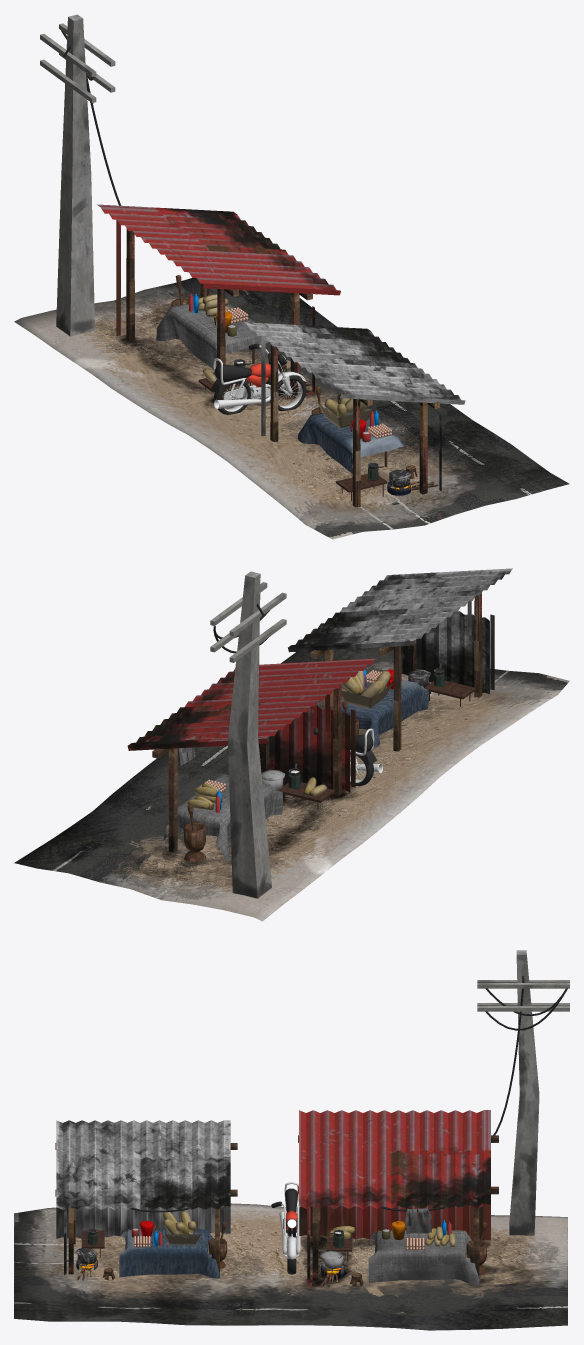
Rendered from asset.glb.
3 renders of one model, top to bottom at view 1: azimuth 30°, elevation 25°; view 2: azimuth 150°, elevation 25°; view 3: azimuth 270°, elevation 25°, orthographic. The views are drawn at different scales.
Parts seen in each view (by area): view 1: Cube.021, Cube.015, Cube.047, Cube.112, BezierCurve.002, Cube.019, Cube.110, Cube.013, Cube.116; view 2: Cube.021, Cube.015, Cube.112, Cube.047, Cube.013, Cube.110, Cube.019, Cube.116, BezierCurve.002, Cube.003, Cube.120, Cube.104 (+2 smaller); view 3: Cube.021, Cube.015, Cube.112, Cube.047, Cube.019, Cube.116, BezierCurve.002, Cube.013, Cube.110, Cube.045, Cube.120, Cube.003.
Boxes of the visible parts, x1,y1,x2,y2 form: Cube.021: (14,278,569,539); Cube.015: (97,204,340,399); Cube.047: (40,14,115,336); Cube.112: (244,322,465,504); BezierCurve.002: (211,343,307,414); Cube.019: (156,303,269,369); Cube.110: (270,344,439,507); Cube.013: (126,229,312,399); Cube.116: (298,413,404,473); Cube.021: (14,647,569,921); Cube.015: (127,658,374,792); Cube.112: (288,568,512,694); Cube.047: (210,571,286,898); Cube.013: (152,685,341,852); Cube.110: (310,593,482,751); Cube.019: (163,773,283,861); Cube.116: (341,680,428,747); BezierCurve.002: (313,727,382,786); Cube.003: (184,804,219,862); Cube.120: (342,671,391,697); Cube.104: (424,680,476,706); Cube.021: (14,1203,567,1330); Cube.015: (299,1110,490,1286); Cube.112: (56,1120,230,1275); Cube.047: (477,950,569,1235); Cube.019: (368,1230,479,1284); Cube.116: (119,1229,220,1278); BezierCurve.002: (271,1182,310,1274); Cube.013: (298,1135,498,1287); Cube.110: (55,1143,237,1280); Cube.045: (481,976,567,1135); Cube.120: (163,1211,196,1234); Cube.003: (350,1222,487,1286).
Size of the model in its own units: 11.03 by 13.86 by 24.33.
49 materials, 45 textured.
